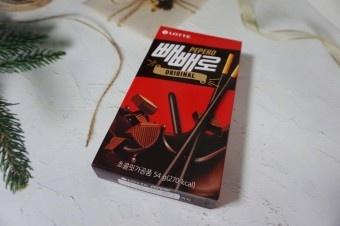snack: (90, 23, 244, 209)
